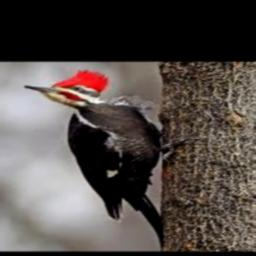Woodpecker: (25, 70, 199, 250)
